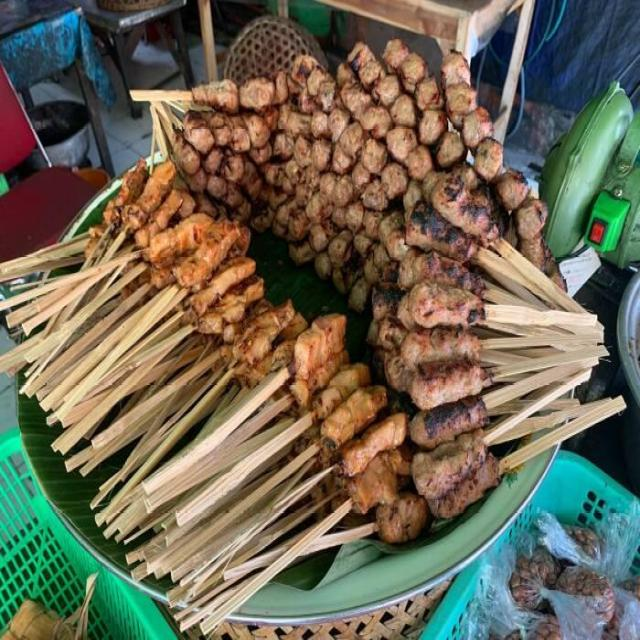Sate: (36, 35, 587, 567)
